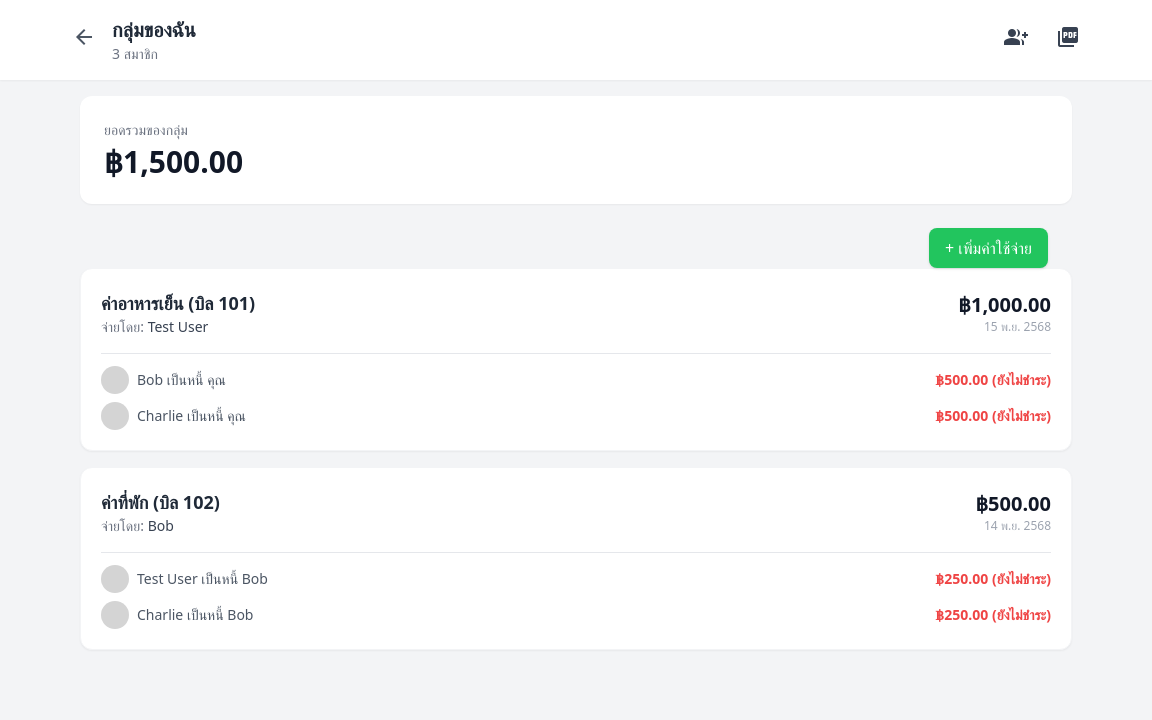
Test: 5. Add Expense Flow - Extended Tests (Images 1-2) › Image 2 Tests - Tags Split Method › ควรสามารถกำหนดจำนวนเงินของสมาชิกในแต่ละแท็กได้
Click the button "+ เพิ่มค่าใช้จ่าย".
click(989, 248)  # box top-left (929, 228), bottom-right (1048, 268)
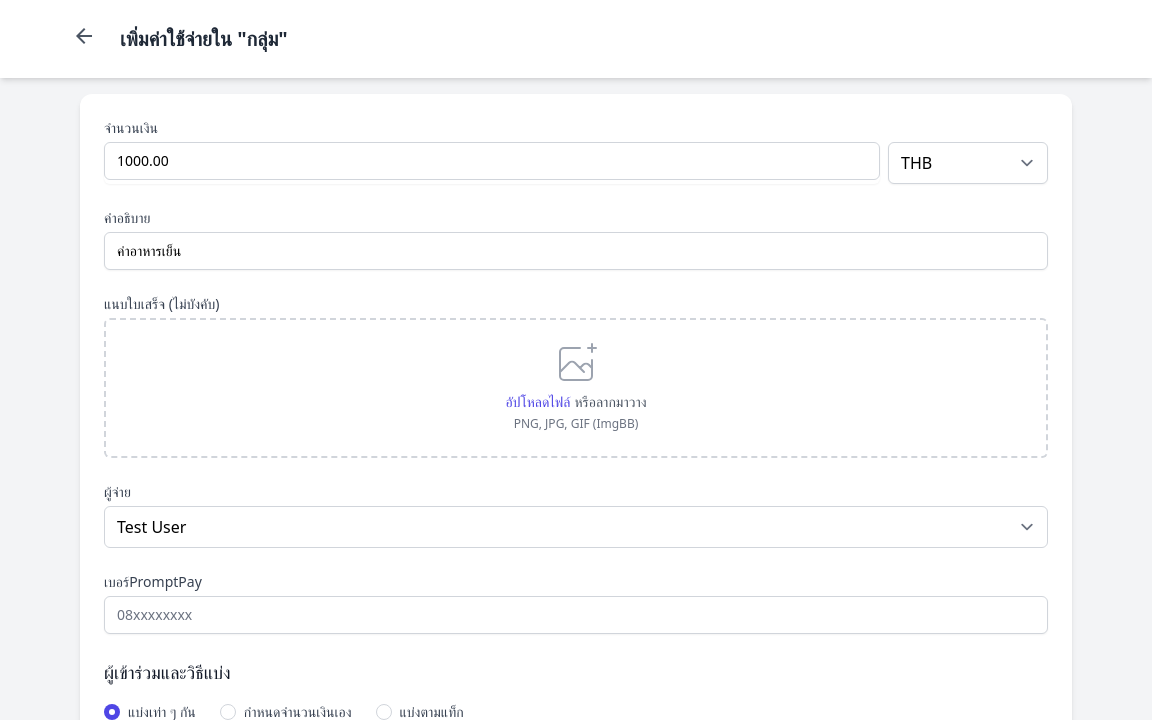
Check the radio button labelled "แบ่งตามแท็ก".
click(384, 712)  # box top-left (376, 704), bottom-right (392, 719)
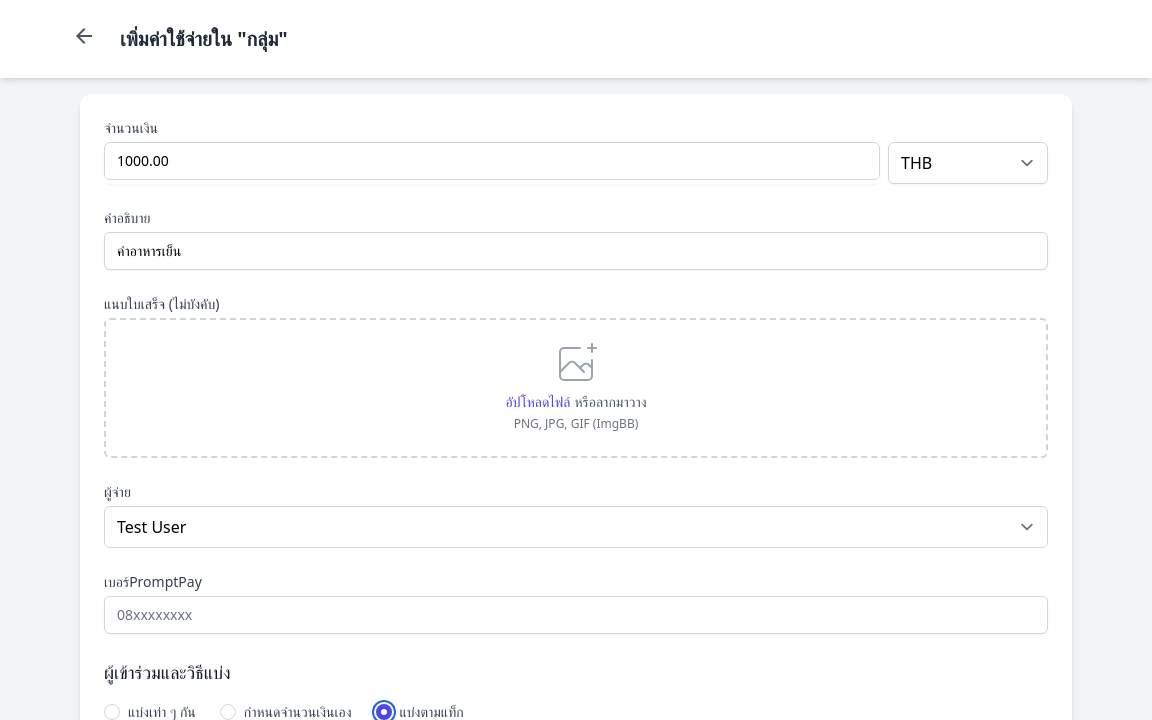
Scroll
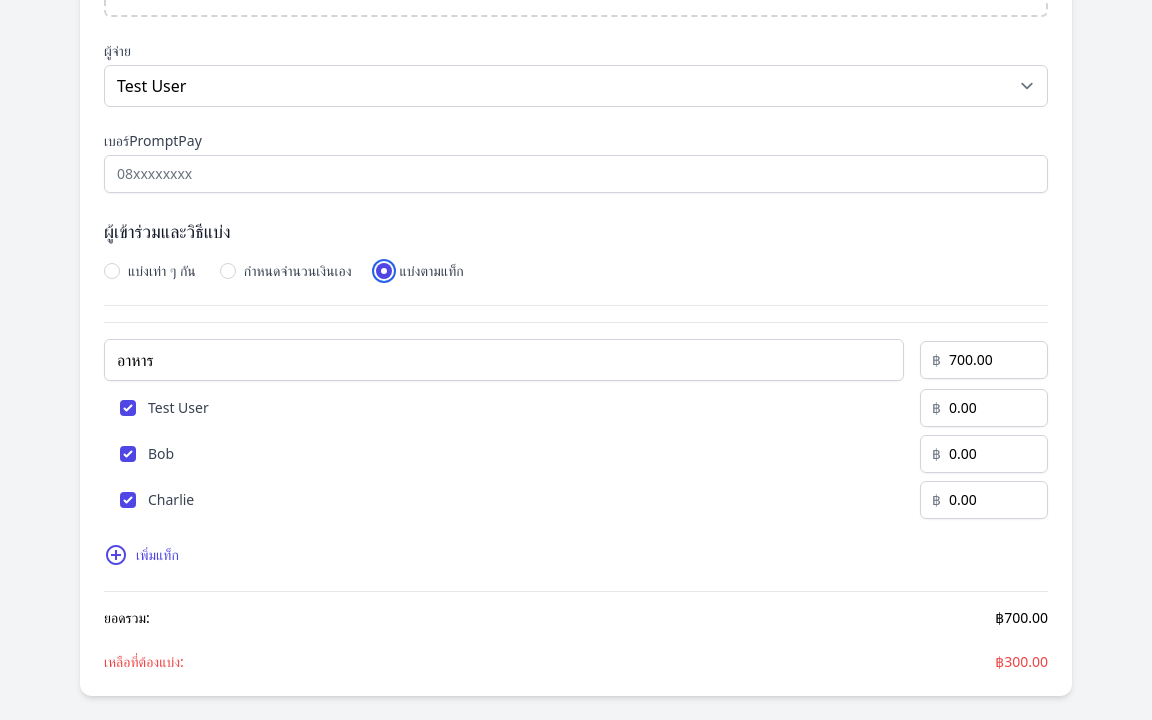
Replace the text in the 1st number field with "100.00" at coordinates (984, 360), box top-left (920, 341), bottom-right (1048, 379)
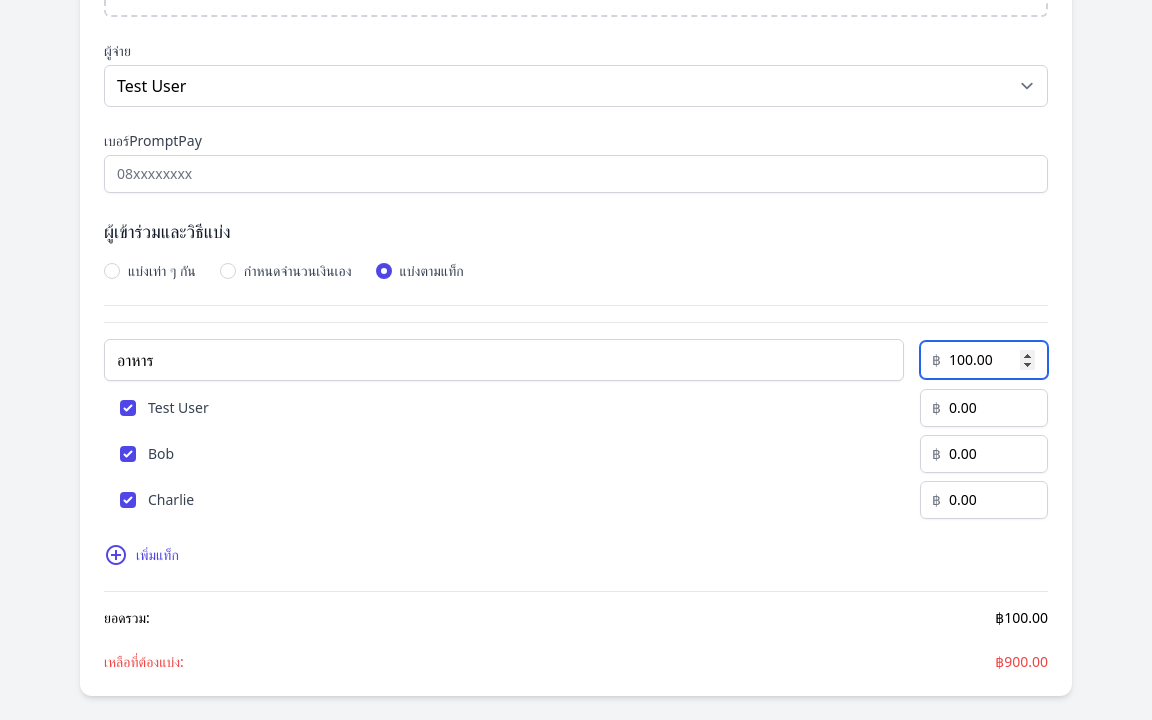
Expected: the 1st number field holds "100.00", top-left (920, 341), bottom-right (1048, 379)
